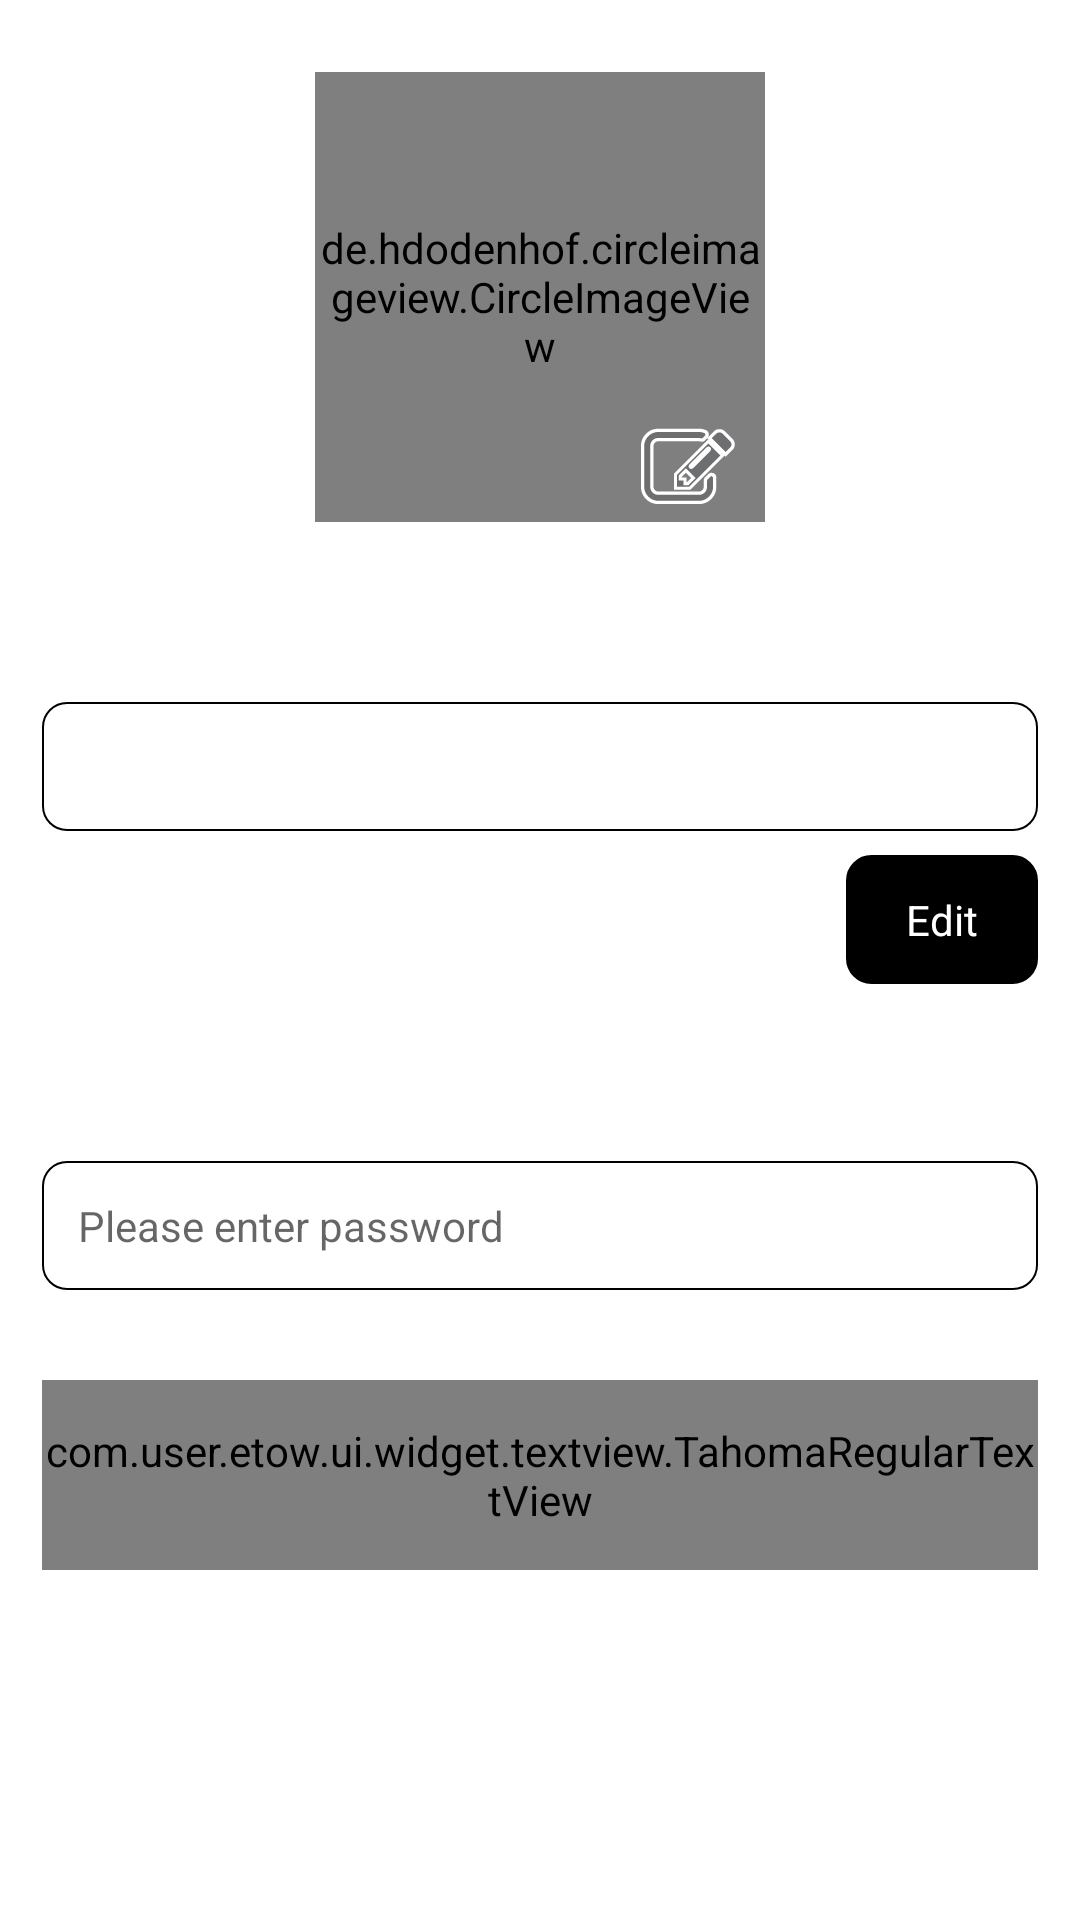

Where to tap for icons on this 1080px×1920px app screen, as (x=x, y=y):
edit profile: (x=688, y=466)
